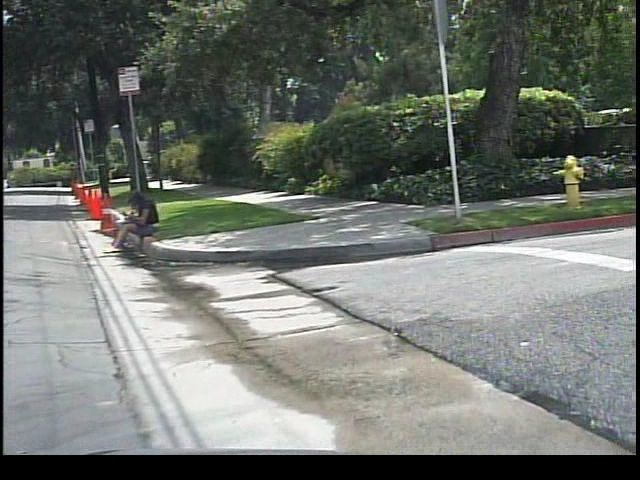person: (108, 187, 168, 253)
